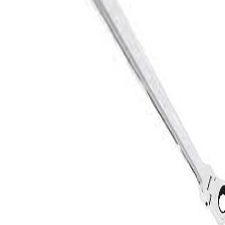Wrench: (88, 2, 225, 223)
